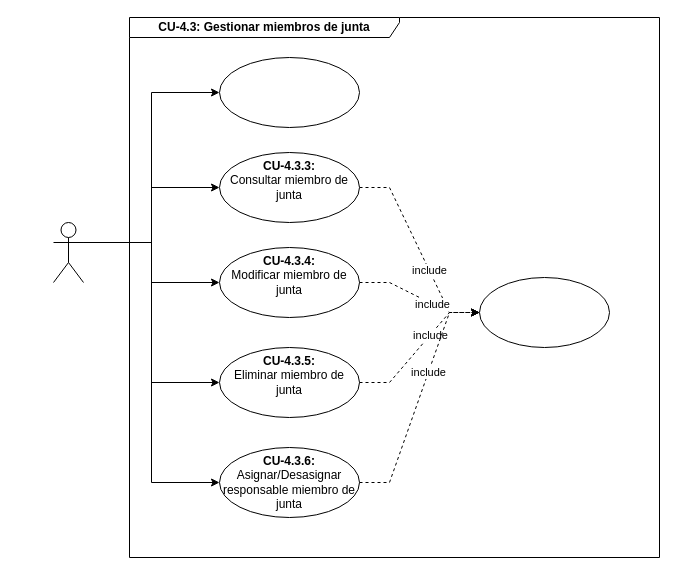
Image size: 677x575. Some labels were removed from this diagram. The centre of each missing label's shape, as x and y in pixels:
CU- 4.3 .1: Buscar miembro de junta: point (544, 312)
CU-4.3.2: Crear miembro de junta: point (289, 92)
Responsable Junta: point (68, 252)
